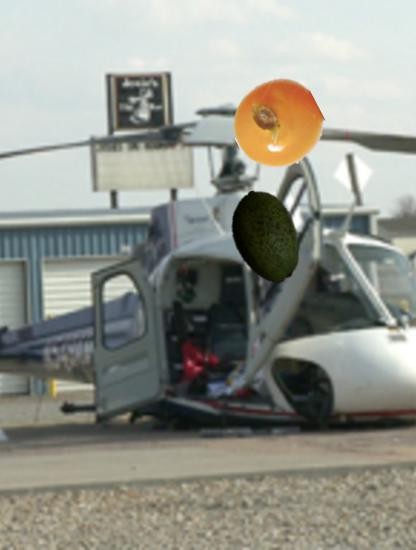Avocado: (217, 189, 314, 286)
Physalis: (233, 80, 323, 170)
